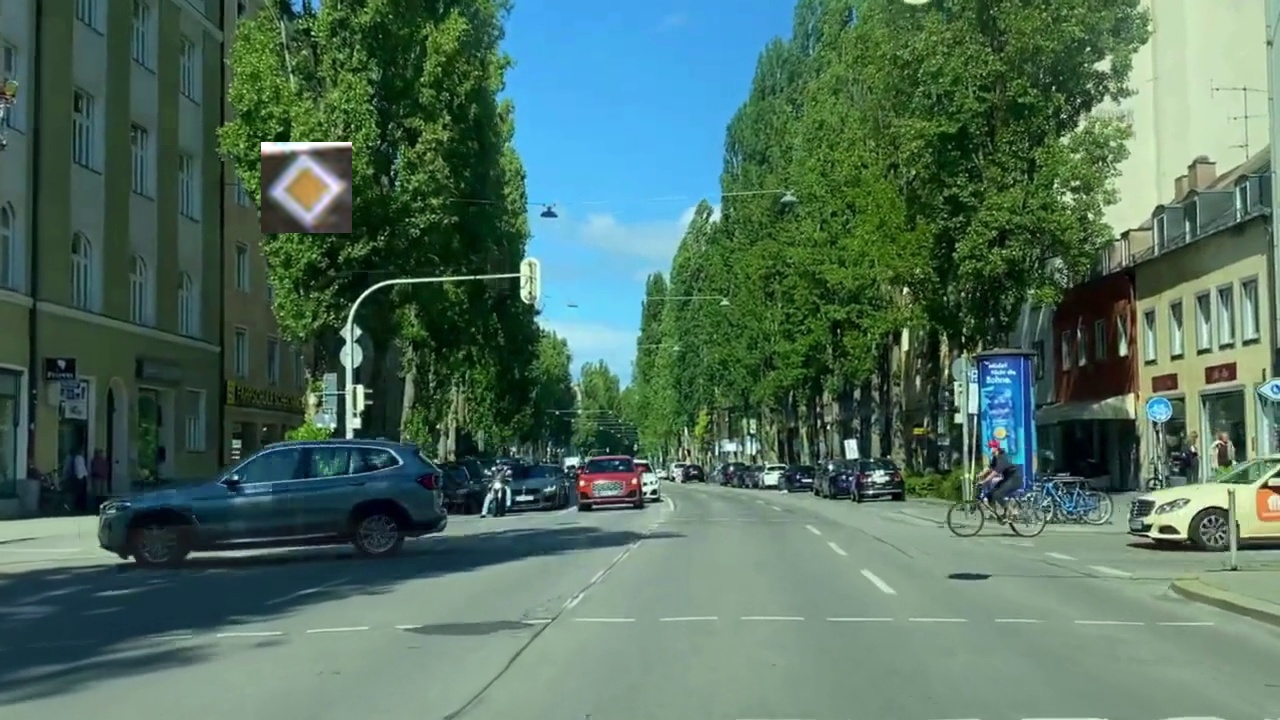Priority road: (261, 142, 352, 233)
